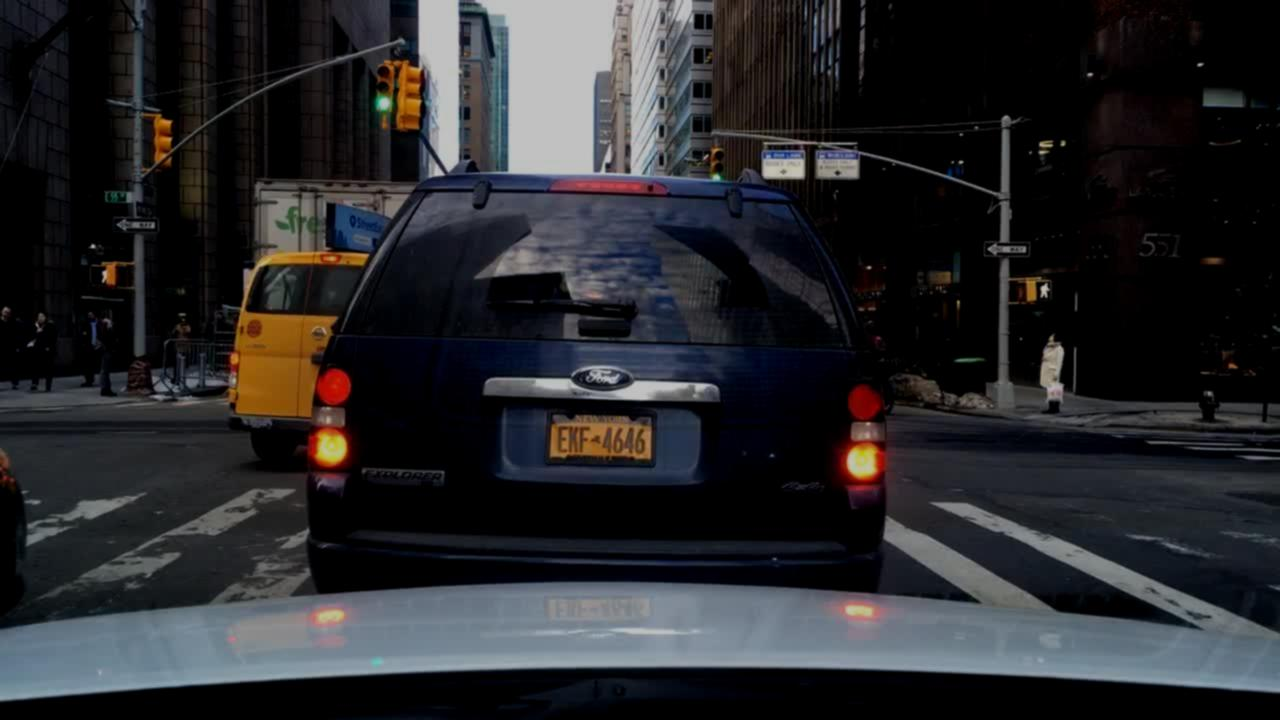Nissan: (309, 325, 327, 343)
ford: (563, 363, 645, 392)
